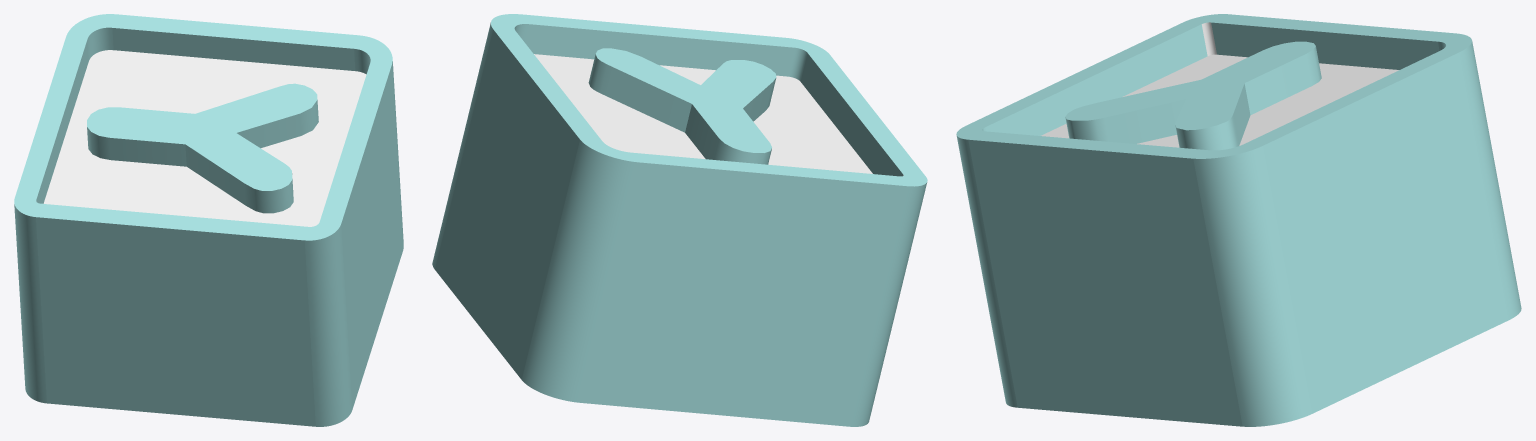
The model's file is Playblock_light_blue.fbx.
3 views of the same model, side by side, from view 1: azimuth 30°, elevation 25°; view 2: azimuth 150°, elevation 25°; view 3: azimuth 270°, elevation 25° (orthographic). The views are drawn at different scales.
Visible parts, largest first — view 1: Timothy_5_1, Y1; view 2: Timothy_5_1, Y1; view 3: Timothy_5_1, Y1.
Boxes of the visible parts, x1,y1,x2,y2 form: Timothy_5_1: (14, 14, 403, 426); Y1: (87, 83, 318, 213); Timothy_5_1: (432, 14, 927, 426); Y1: (588, 48, 776, 164); Timothy_5_1: (956, 14, 1521, 426); Y1: (1065, 41, 1321, 150).
Bounding box in the file's own units: 1491 × 974 × 1497.
